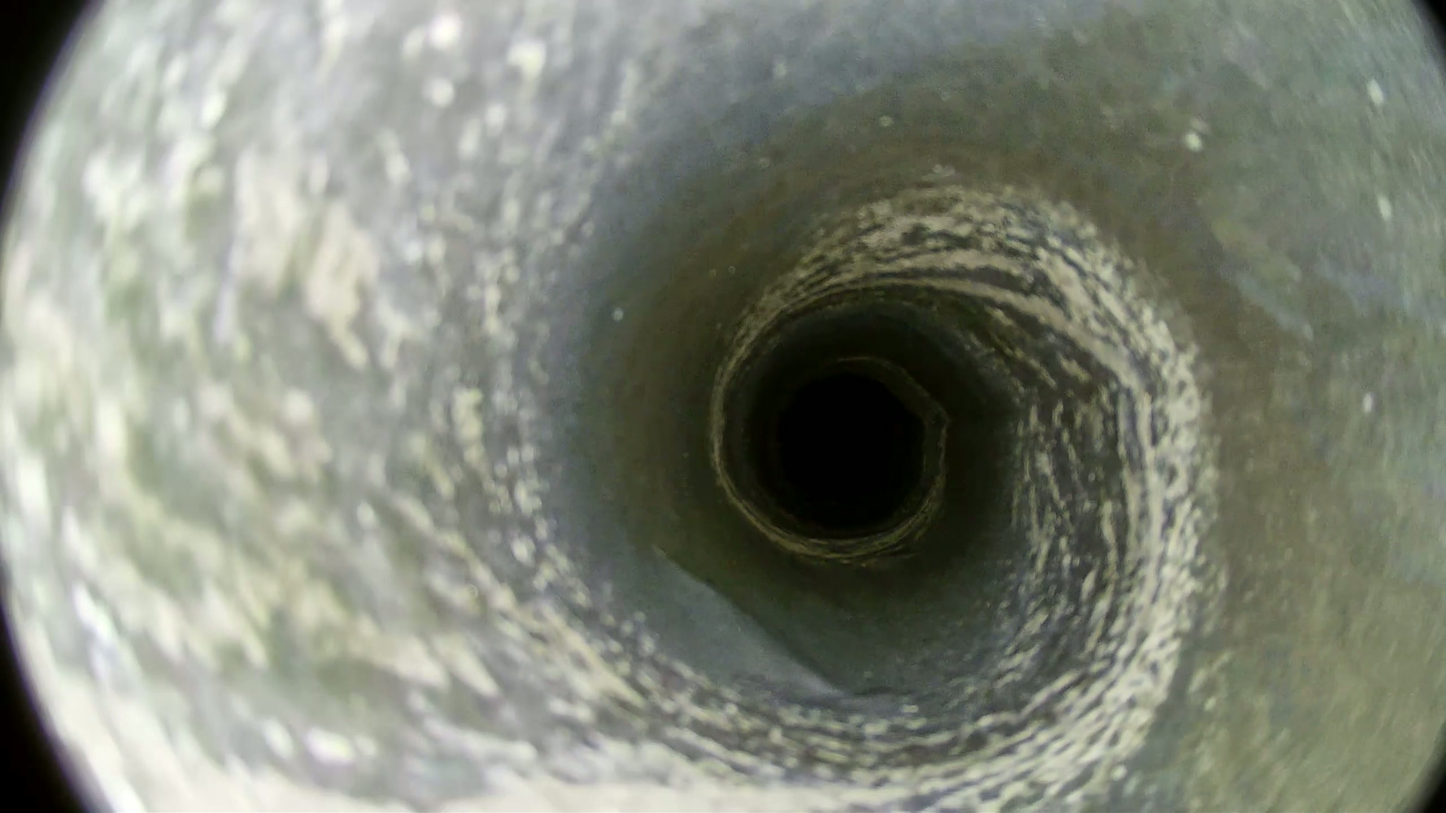hole: (780, 377, 905, 499)
